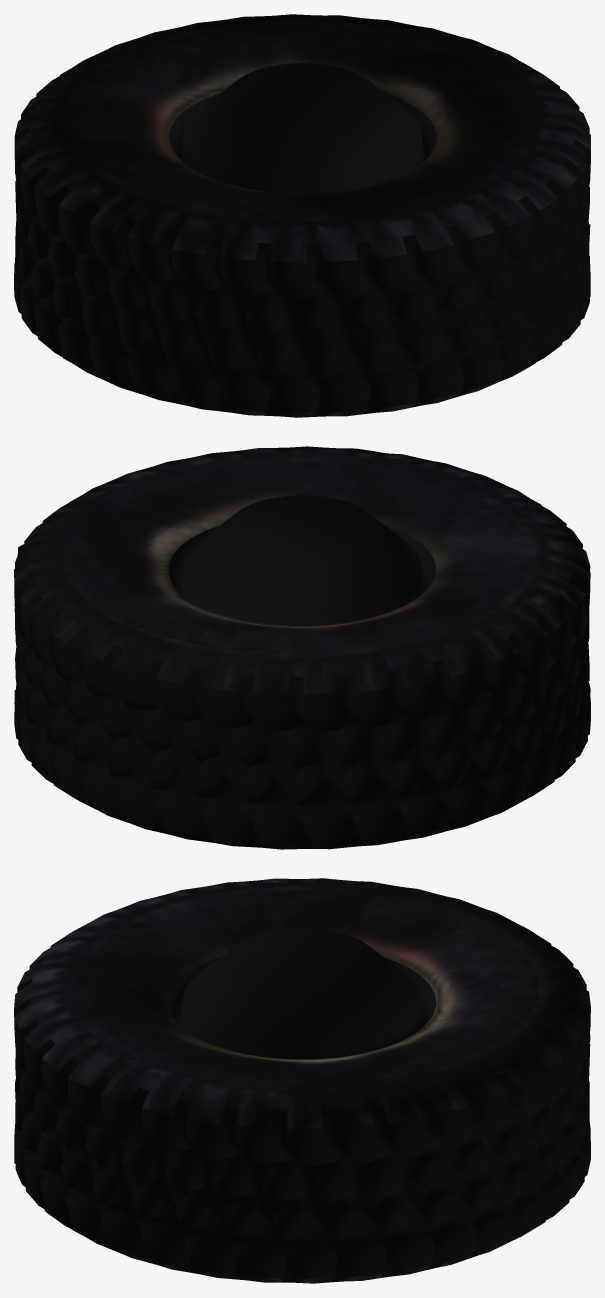
The model's file is m915a5_tire.obj.
3 views of the same model, one above another, from view 1: azimuth 30°, elevation 25°; view 2: azimuth 150°, elevation 25°; view 3: azimuth 270°, elevation 25° (orthographic).
Size of the model in its own units: 1 by 0.4149 by 0.9999.
Materials: 3 (3 with a texture image).
